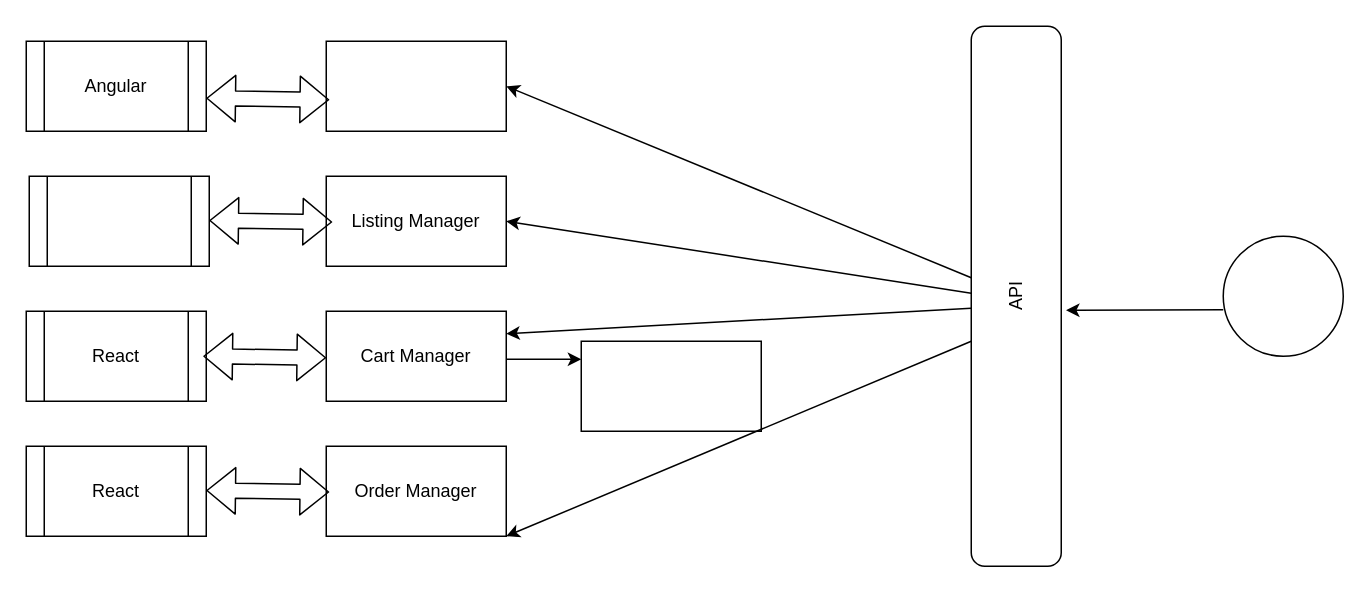
Some shapes in this 1370 by 593 pixel diagram are drawn without their labels. Here are the shapes that lost their labels. From the top down, the centre of each, then its label:
point 415,85: User Manager
point 118,220: Vue
point 1282,295: User
point 670,385: Payment Manager
